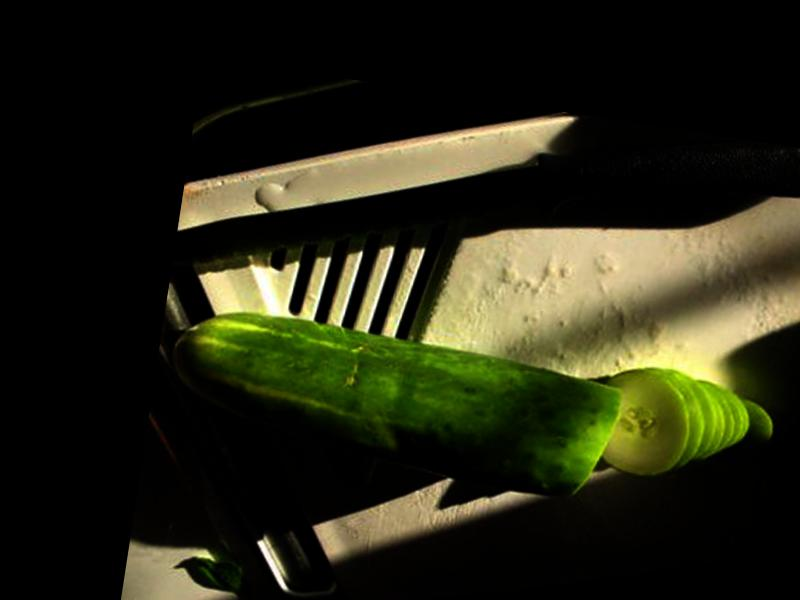Cucumber: (159, 300, 628, 504)
